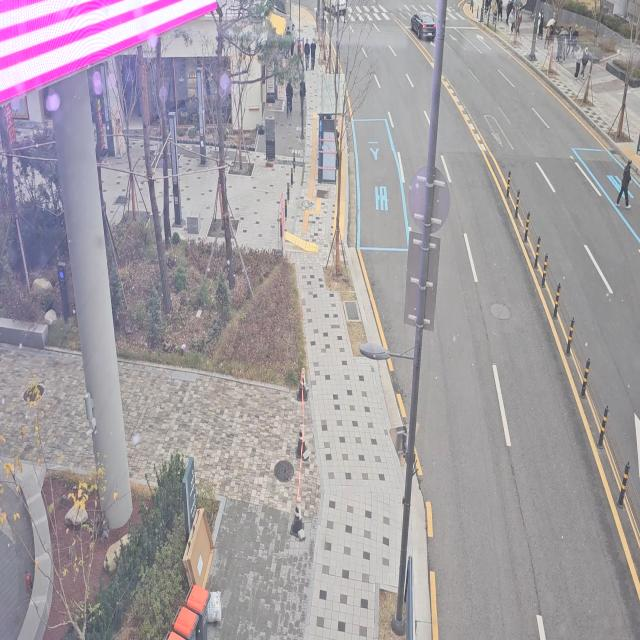Car: (409, 6, 445, 43), (316, 0, 352, 19)
